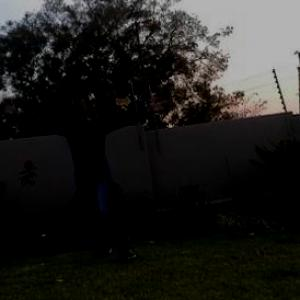takeoff: (14, 89, 170, 267)
